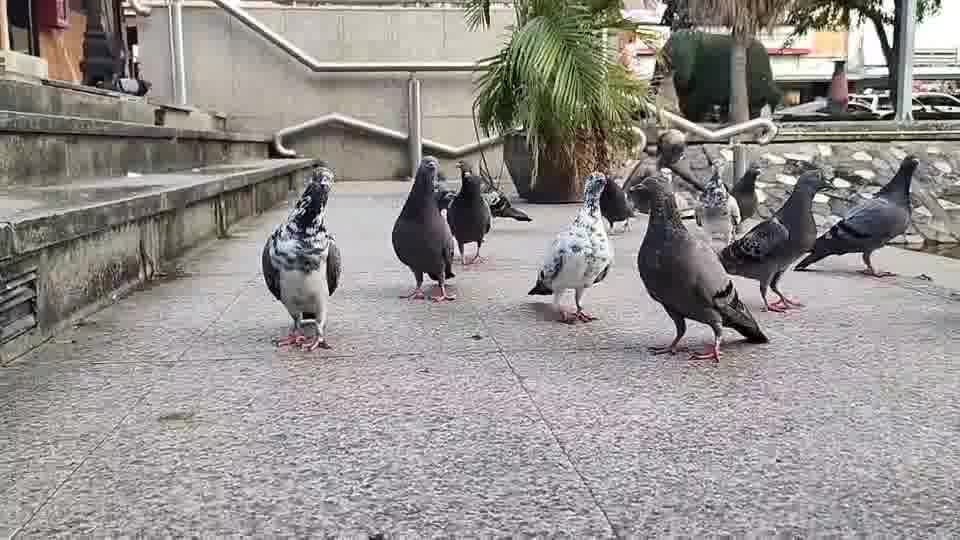Pigeon: (627, 174, 769, 362), (717, 167, 836, 312), (792, 154, 920, 277), (260, 163, 343, 352), (527, 171, 613, 323), (391, 155, 457, 302), (445, 159, 491, 265), (693, 164, 741, 250), (477, 162, 532, 225), (598, 174, 638, 233), (728, 163, 763, 224)
